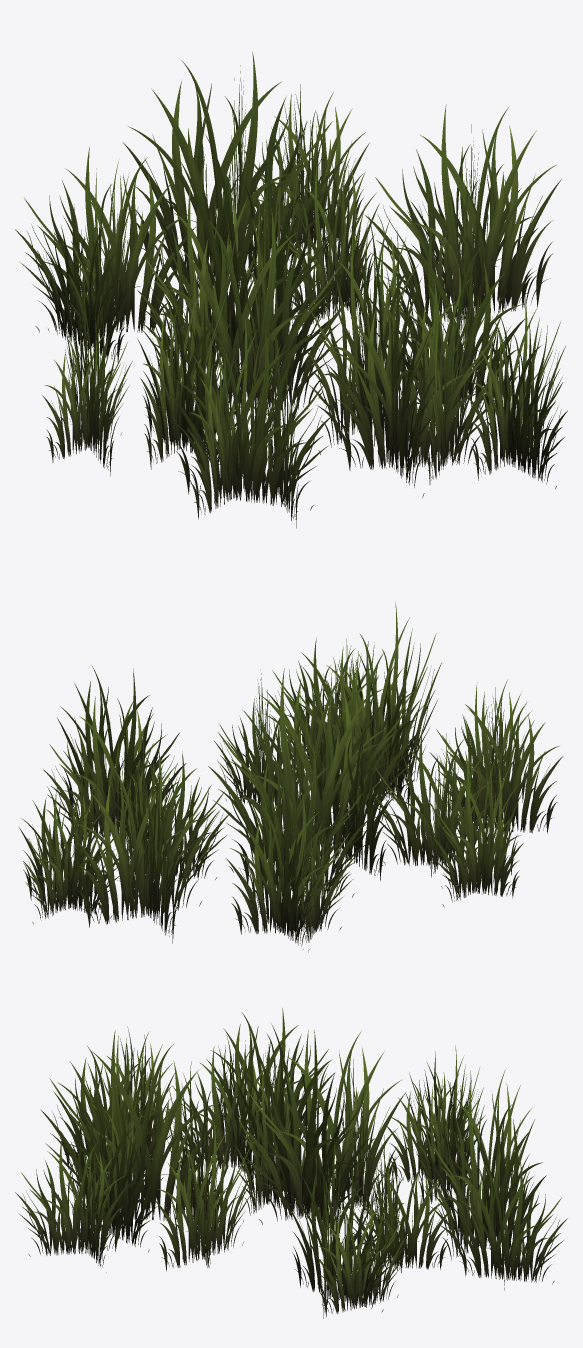
The model's file is Grass_02.fbx.
3 renders of one model, top to bottom at view 1: azimuth 30°, elevation 25°; view 2: azimuth 150°, elevation 25°; view 3: azimuth 270°, elevation 25°, orthographic. The views are drawn at different scales.
Parts seen in each view (by area): view 1: Grass_02; view 2: Grass_02; view 3: Grass_02.
Boxes of the visible parts, x1=… form: Grass_02: x1=15, y1=52, x2=567, y2=528; Grass_02: x1=19, y1=601, x2=563, y2=952; Grass_02: x1=15, y1=1008, x2=567, y2=1318.
Size of the model in its own units: 3.1 by 3.42 by 1.36.
